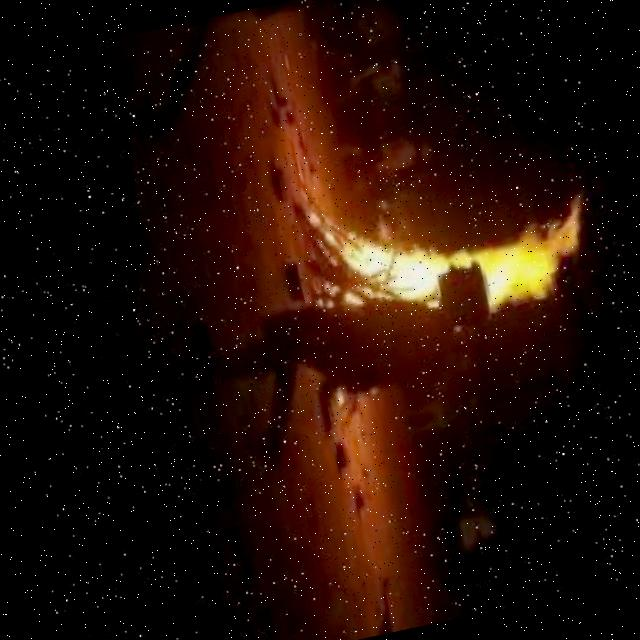fire: (313, 154, 619, 353)
